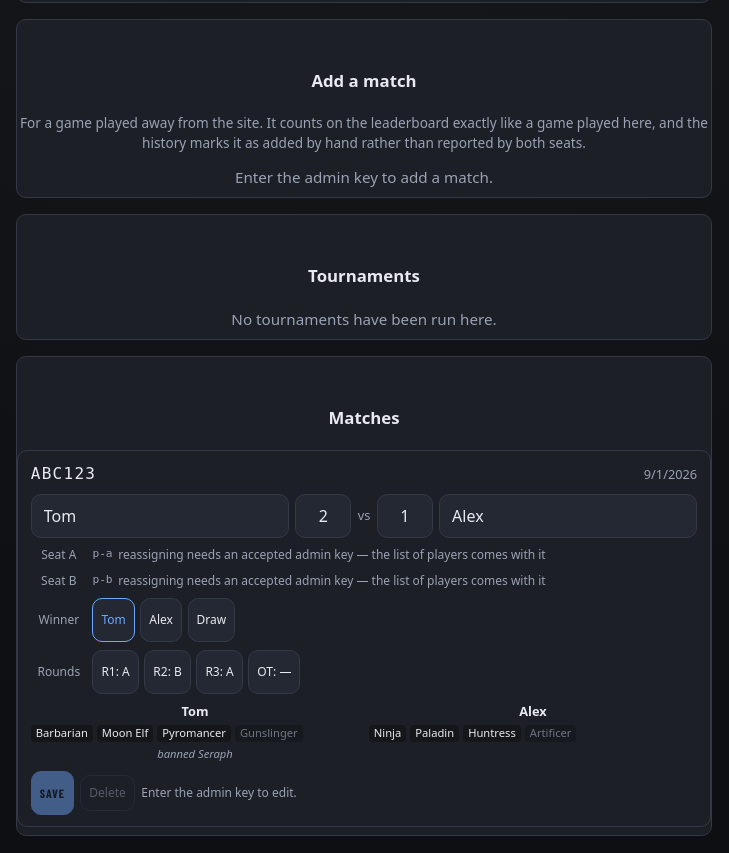
Test: the admin dashboard › cycles a round through every state it can hold
(page scrolled)
Expected: the text "ABC123" is shown, [31,462,96,486]
Click the button "R1: A" at (116, 672), box [92,650,139,694]
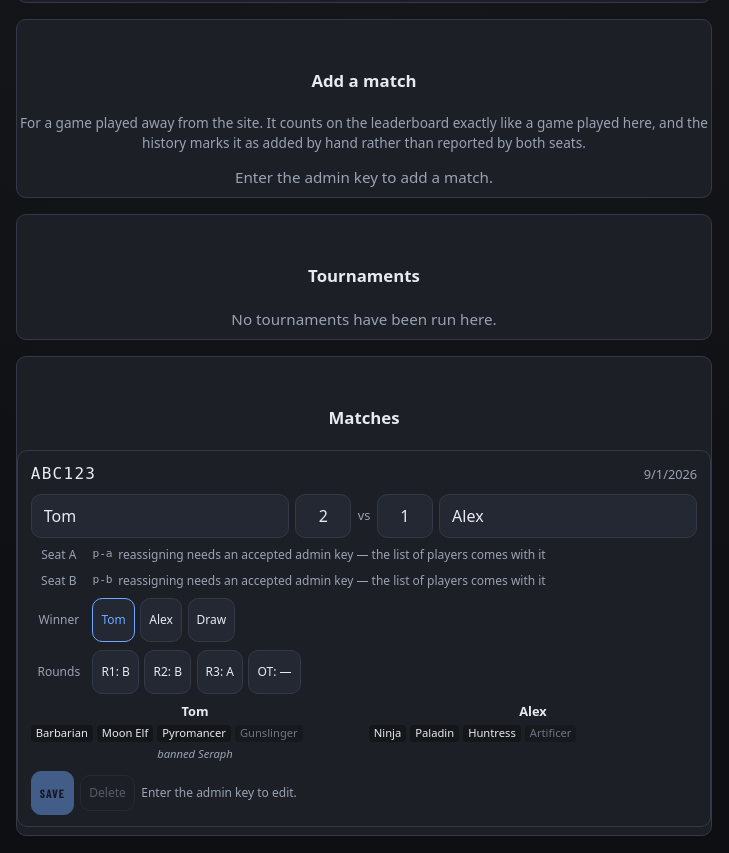
Expected: the button "R1: B" is shown
Click the button "R1: B" at (116, 672), box [92,650,139,694]
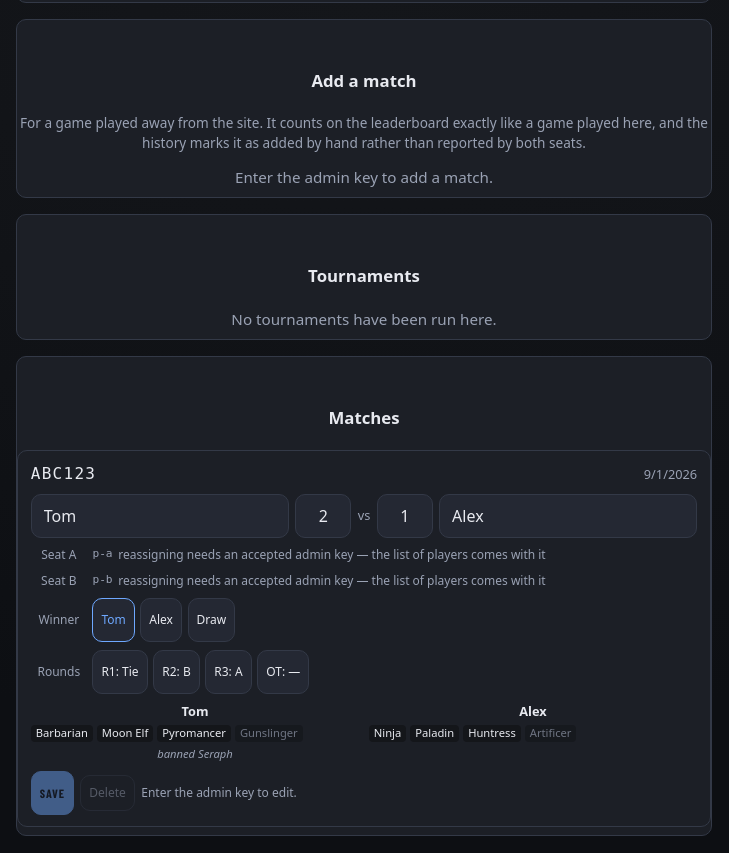
Expected: the button "R1: Tie" is shown
// Unplayed is a state a round can genuinely be in, so the cycle has to reach it.
Click the button "R1: Tie" at (120, 672), box [92,650,148,694]
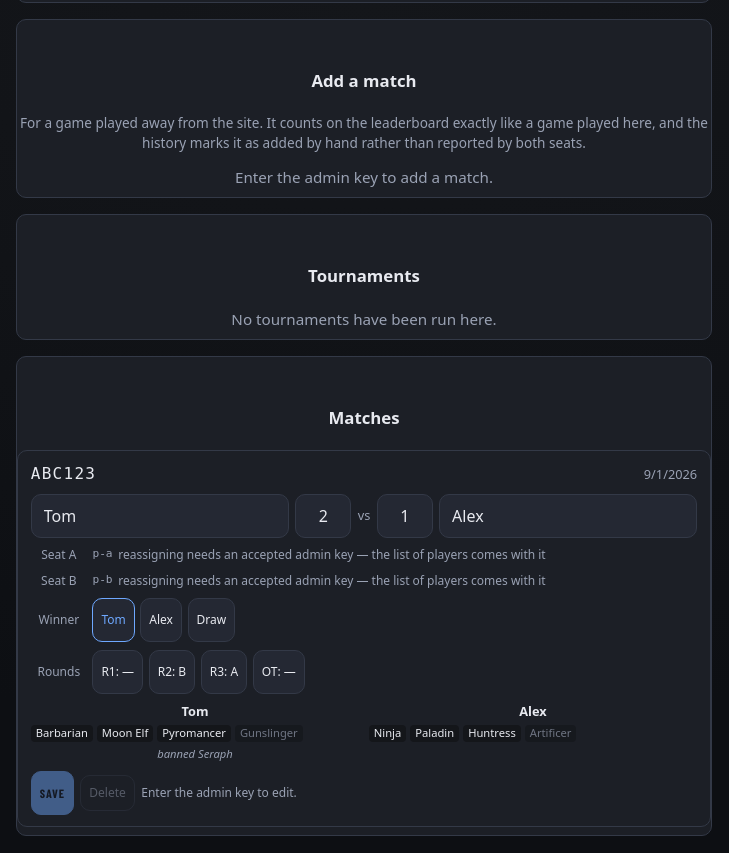
Expected: the button "R1: —" is shown, [92,650,143,694]
